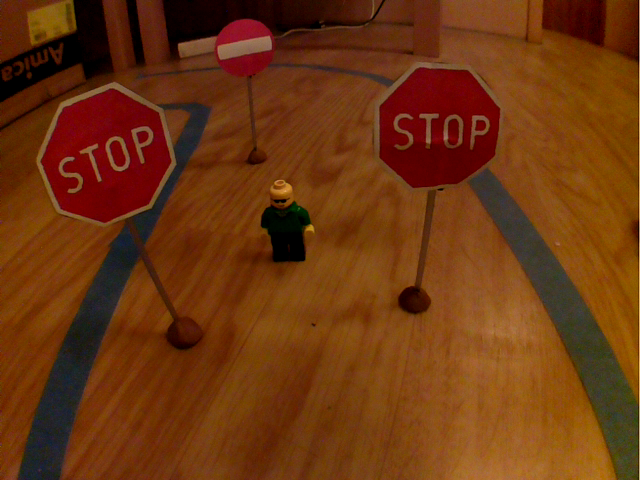Postac LEGO: (254, 174, 319, 272)
Stop: (29, 76, 184, 230), (366, 54, 509, 197)
Zakaz: (207, 17, 279, 80)
